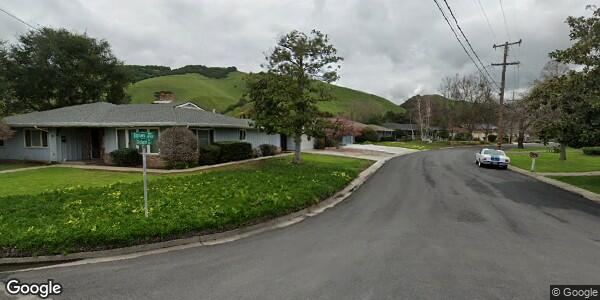Wood_Pole: (487, 34, 524, 150)
